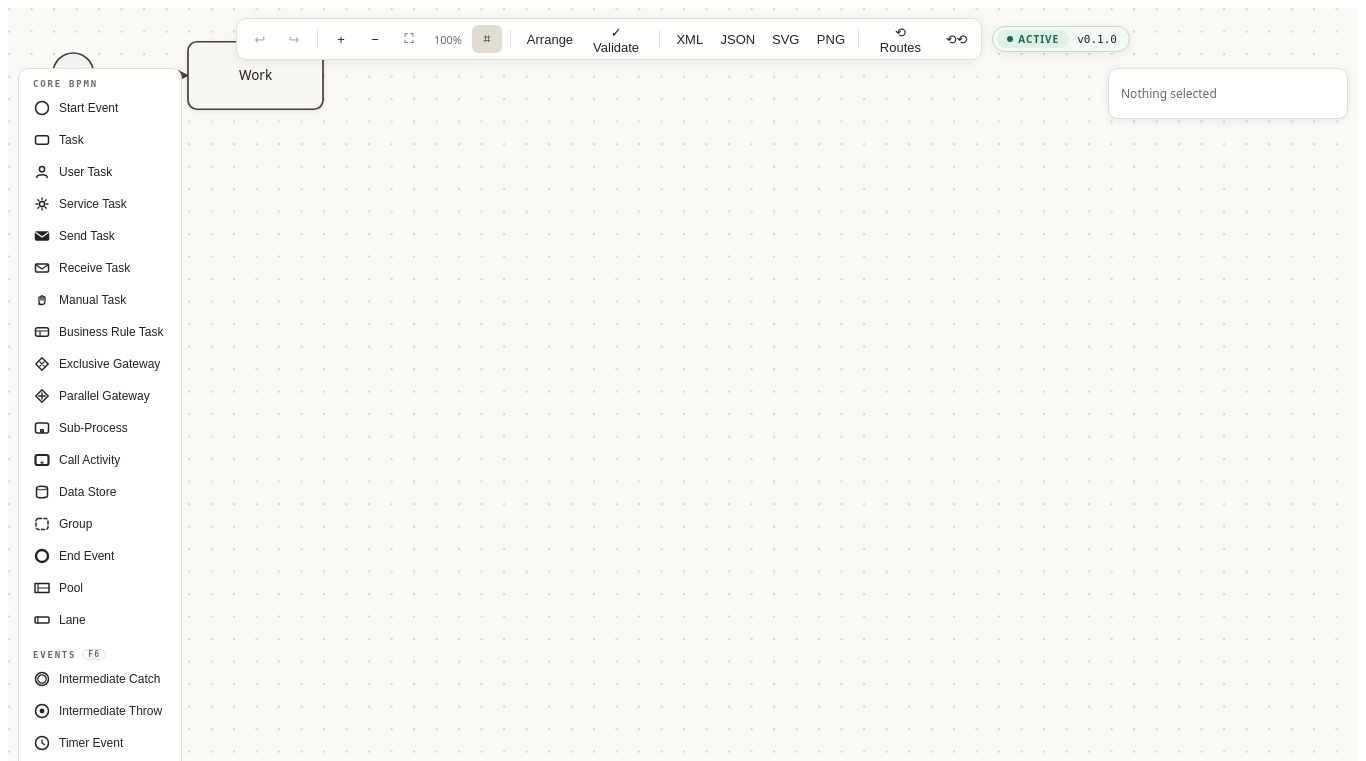
Test: BpmnEditor chrome › shows a veto message when editing a locked diagram
Click the button with aria-label "Add Task": (100, 140) [25,125,175,155]
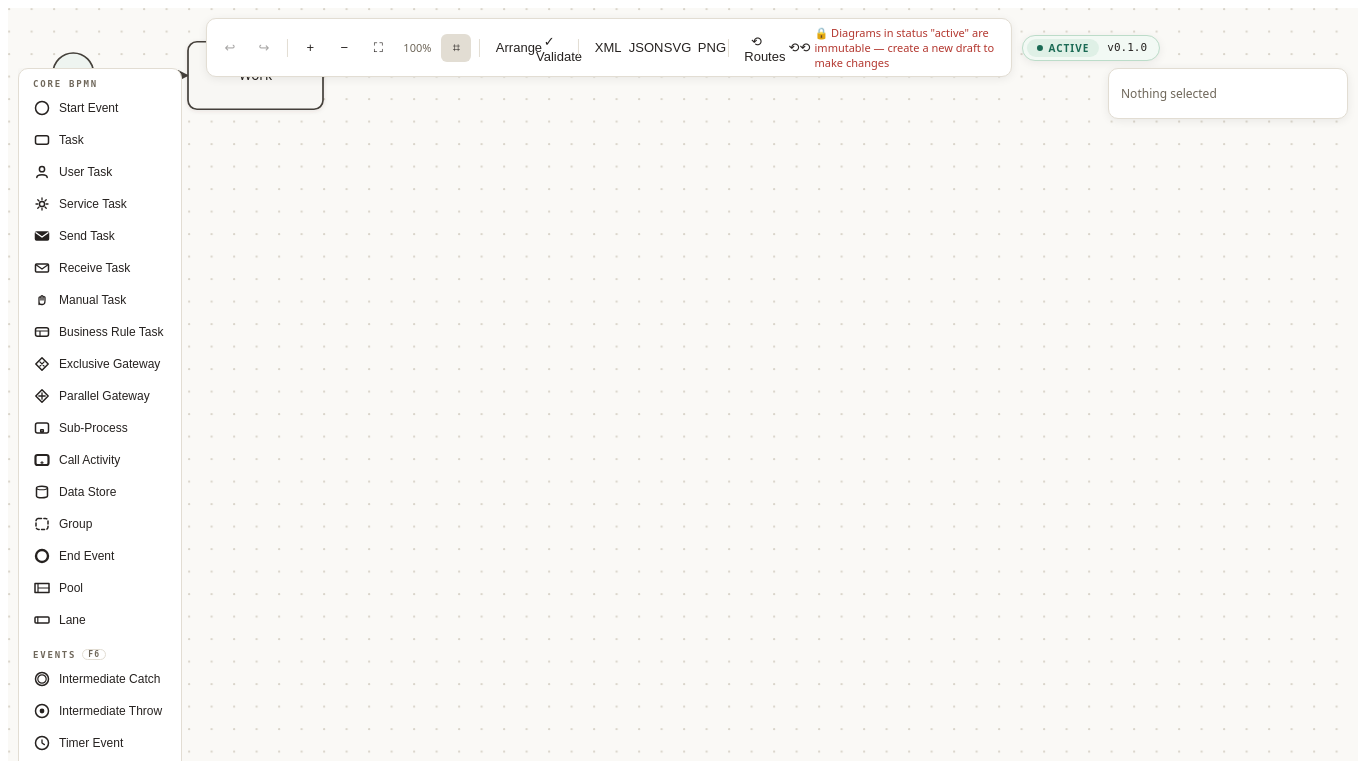
Expected: the text "immutable" is shown, [814,25,994,70]
